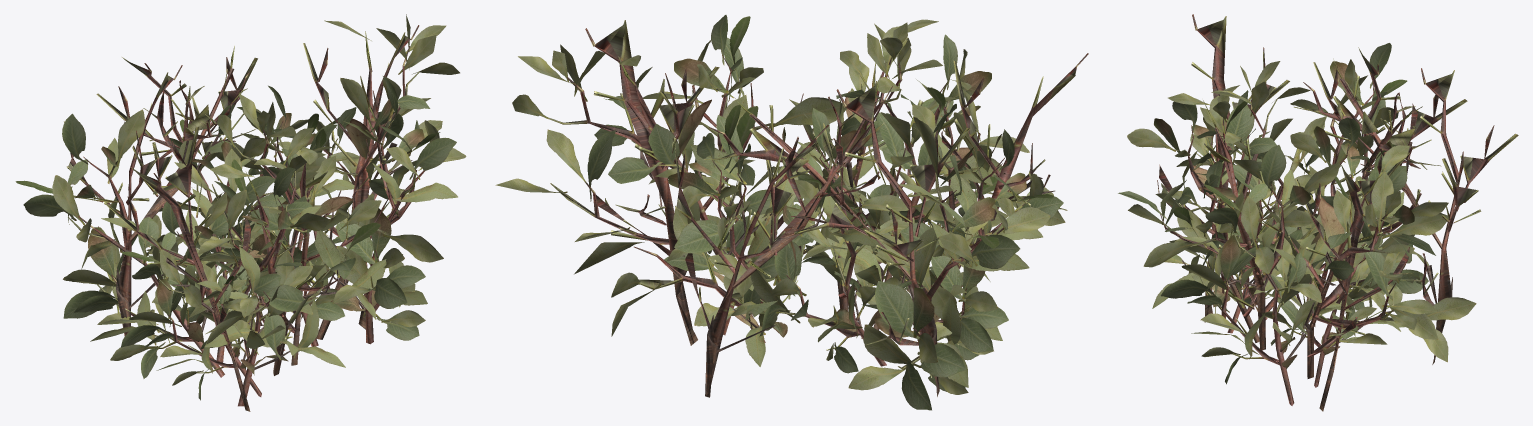
Rendered from Scan_Bush_B.fbx.
3 views of the same model, side by side, from view 1: azimuth 30°, elevation 25°; view 2: azimuth 150°, elevation 25°; view 3: azimuth 270°, elevation 25° (orthographic). The views are drawn at different scales.
Visible parts, largest first — view 1: Scan_Bush_B_LOD0; view 2: Scan_Bush_B_LOD0; view 3: Scan_Bush_B_LOD0.
Boxes of the visible parts, left/top/right/bottom form: Scan_Bush_B_LOD0: left=15, top=14, right=466, bottom=411; Scan_Bush_B_LOD0: left=495, top=15, right=1088, bottom=410; Scan_Bush_B_LOD0: left=1118, top=14, right=1518, bottom=411.
Size of what is drawn, in the model's own units: 1.34 by 0.8421 by 1.09.
